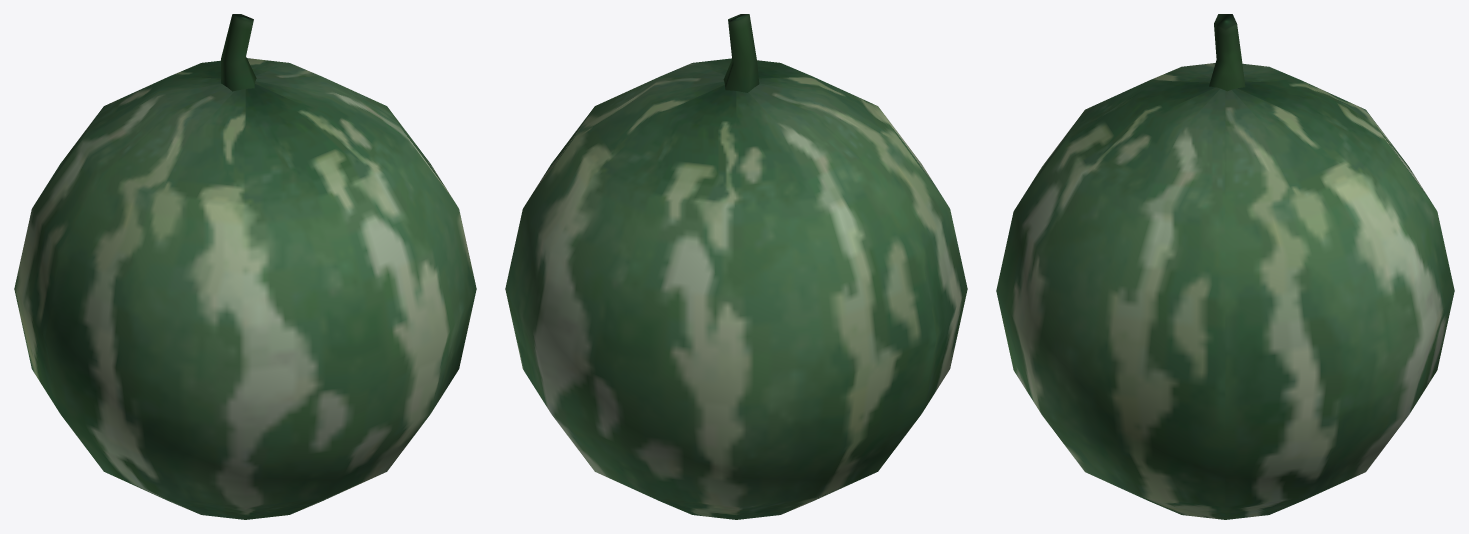
Rendered from Obj_FruitMelon_A_01.glb.
3 views of the same model, side by side, from view 1: azimuth 30°, elevation 25°; view 2: azimuth 150°, elevation 25°; view 3: azimuth 270°, elevation 25° (orthographic).
Visible parts, largest first — view 1: Obj_FruitMelon_A_01; view 2: Obj_FruitMelon_A_01; view 3: Obj_FruitMelon_A_01.
Boxes of the visible parts, bbox=[...] form: Obj_FruitMelon_A_01: bbox=[14, 14, 476, 519]; Obj_FruitMelon_A_01: bbox=[505, 14, 967, 519]; Obj_FruitMelon_A_01: bbox=[996, 14, 1454, 519].
Bounding box in the file's own units: 0.5674 × 0.6555 × 0.5674.
1 material, 1 textured.
